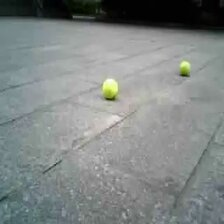tennis: (102, 79, 117, 97), (179, 60, 191, 75)
